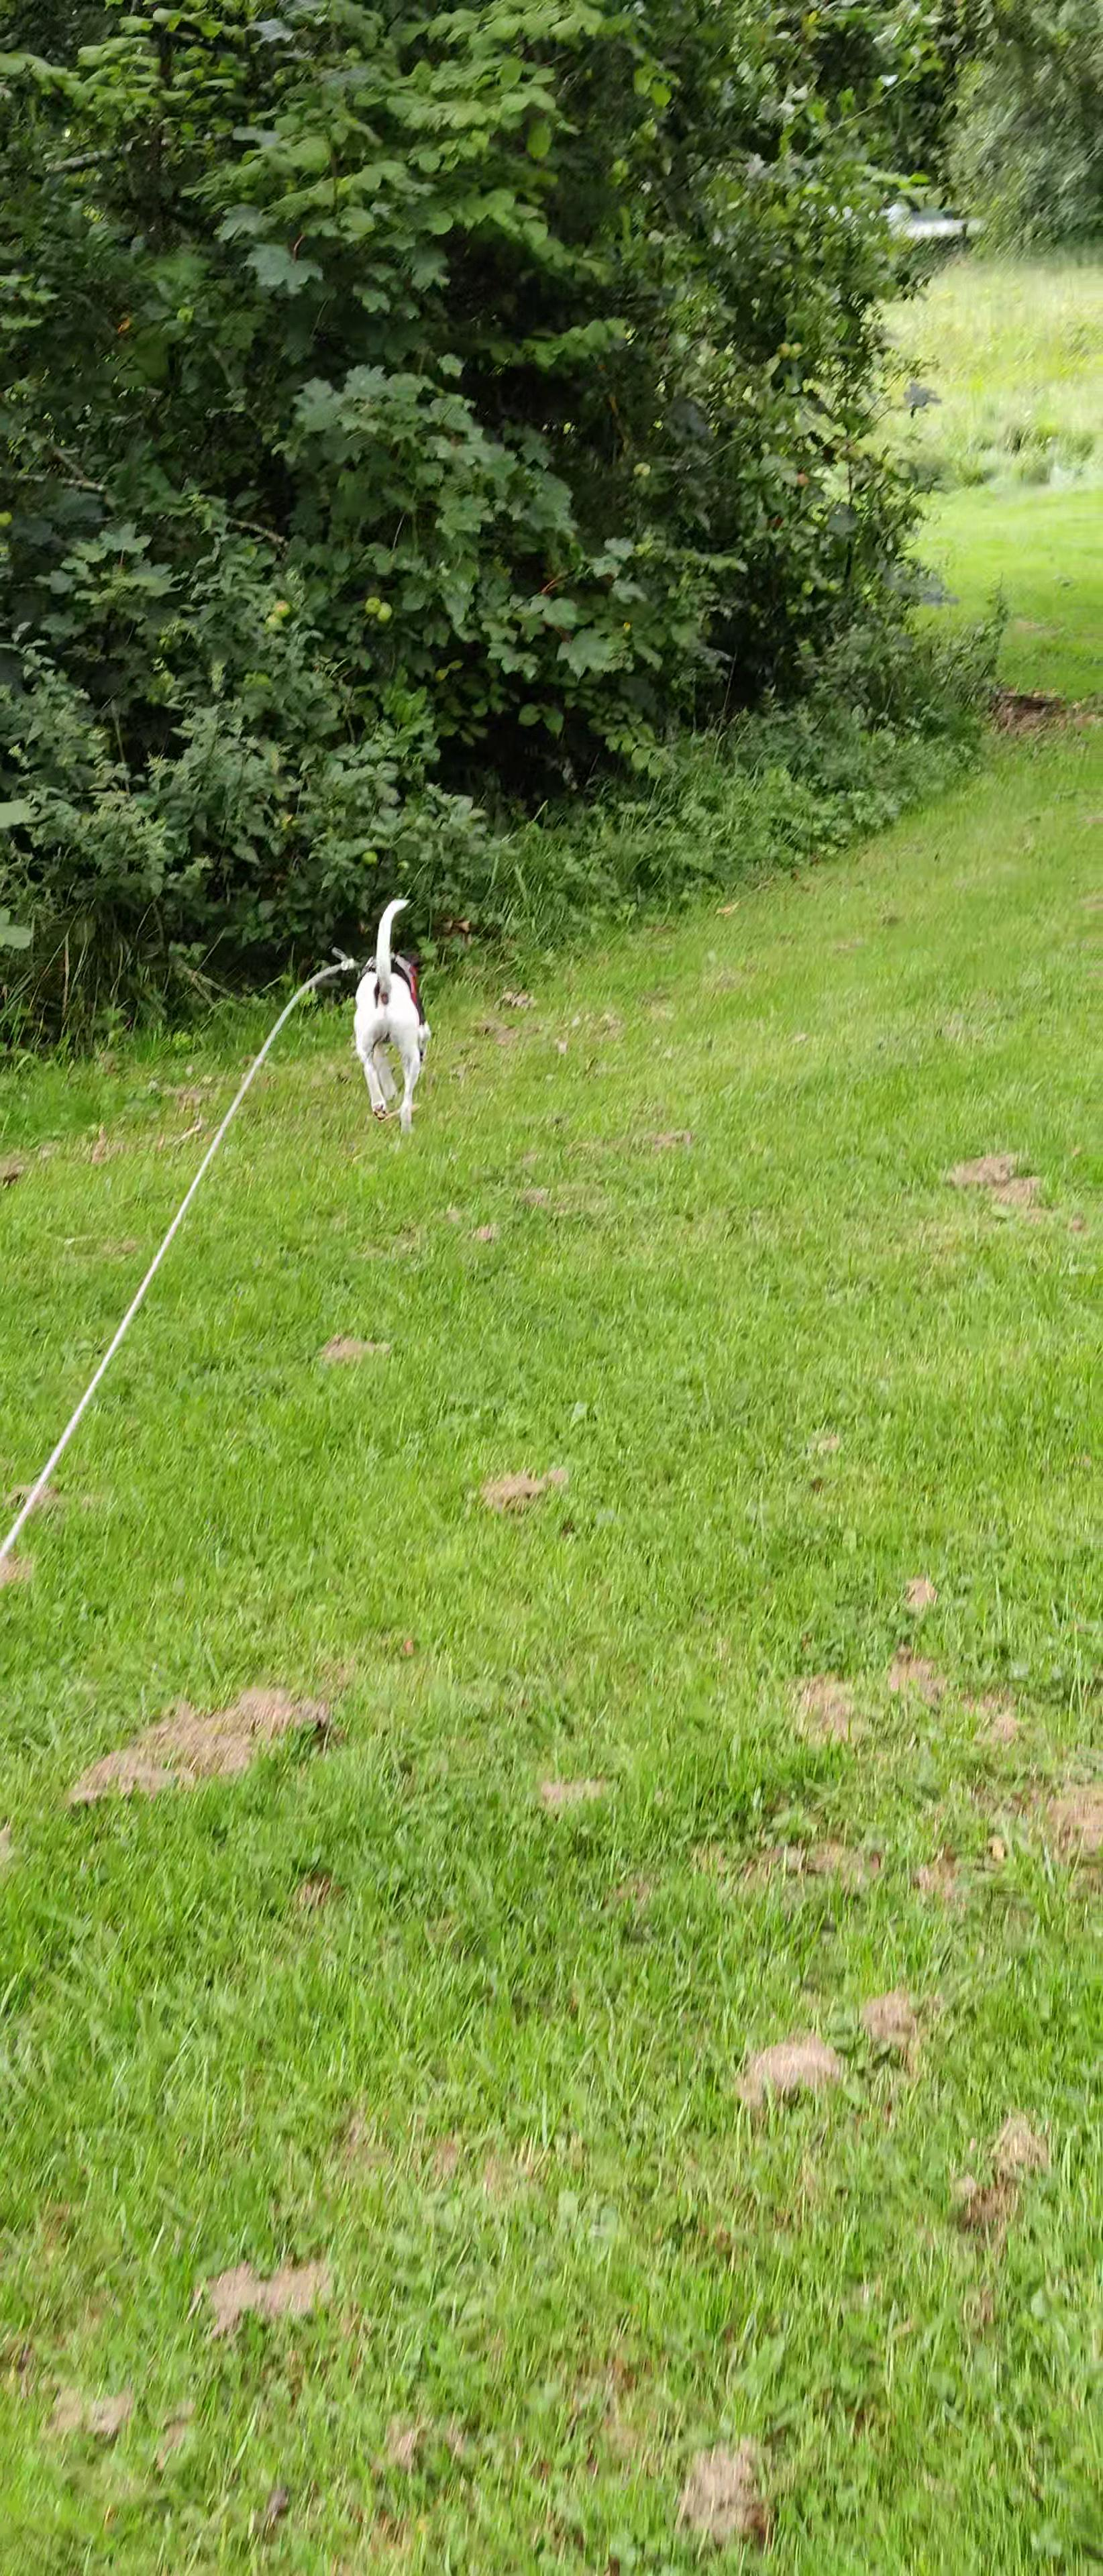Dog: (332, 890, 442, 1145)
